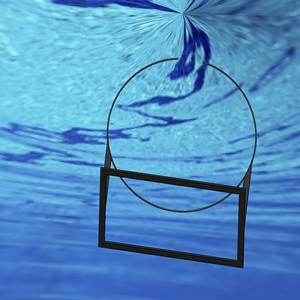circle: (96, 56, 259, 271)
